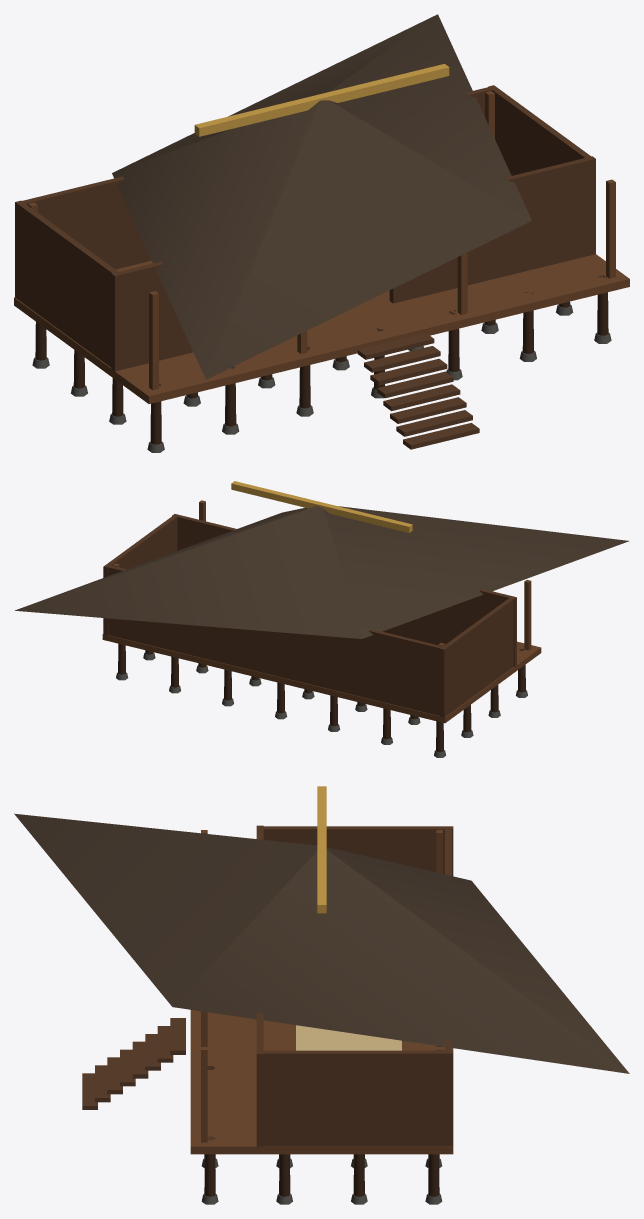
Rendered from rumah-lamin.glb.
3 views of the same model, one above another, from view 1: azimuth 30°, elevation 25°; view 2: azimuth 150°, elevation 25°; view 3: azimuth 270°, elevation 25° (orthographic). The views are drawn at different scales.
Visible parts, largest first — view 1: ROOF_SYSTEM, WALL_SYSTEM, FLOOR_SYSTEM, STRUCTURAL_COLUMNS, ENTRANCE_STAIRS, FOUNDATION_SYSTEM; view 2: ROOF_SYSTEM, WALL_SYSTEM, STRUCTURAL_COLUMNS, FLOOR_SYSTEM, FOUNDATION_SYSTEM; view 3: ROOF_SYSTEM, WALL_SYSTEM, FLOOR_SYSTEM, ENTRANCE_STAIRS, STRUCTURAL_COLUMNS, INTERIOR_MAT, FOUNDATION_SYSTEM.
Boxes of the visible parts, bbox=[...] form: ROOF_SYSTEM: bbox=[112, 14, 531, 379]; WALL_SYSTEM: bbox=[15, 85, 595, 371]; FLOOR_SYSTEM: bbox=[14, 254, 629, 403]; STRUCTURAL_COLUMNS: bbox=[28, 91, 615, 444]; ENTRANCE_STAIRS: bbox=[357, 333, 479, 449]; FOUNDATION_SYSTEM: bbox=[32, 304, 611, 452]; ROOF_SYSTEM: bbox=[15, 481, 629, 638]; WALL_SYSTEM: bbox=[103, 514, 516, 717]; STRUCTURAL_COLUMNS: bbox=[112, 500, 531, 752]; FLOOR_SYSTEM: bbox=[102, 634, 541, 723]; FOUNDATION_SYSTEM: bbox=[116, 652, 527, 757]; ROOF_SYSTEM: bbox=[14, 786, 629, 1073]; WALL_SYSTEM: bbox=[256, 825, 453, 1146]; FLOOR_SYSTEM: bbox=[190, 1010, 453, 1154]; ENTRANCE_STAIRS: bbox=[82, 1018, 185, 1109]; STRUCTURAL_COLUMNS: bbox=[201, 830, 442, 1196]; INTERIOR_MAT: bbox=[296, 1025, 401, 1050]; FOUNDATION_SYSTEM: bbox=[201, 1158, 442, 1204].
Size of what is drawn, in the model's own units: 15.97 by 7.15 by 15.97.
